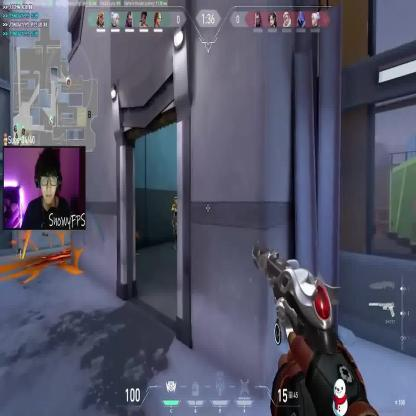enemy: (171, 196, 179, 249)
enemy_head: (174, 196, 178, 204)
